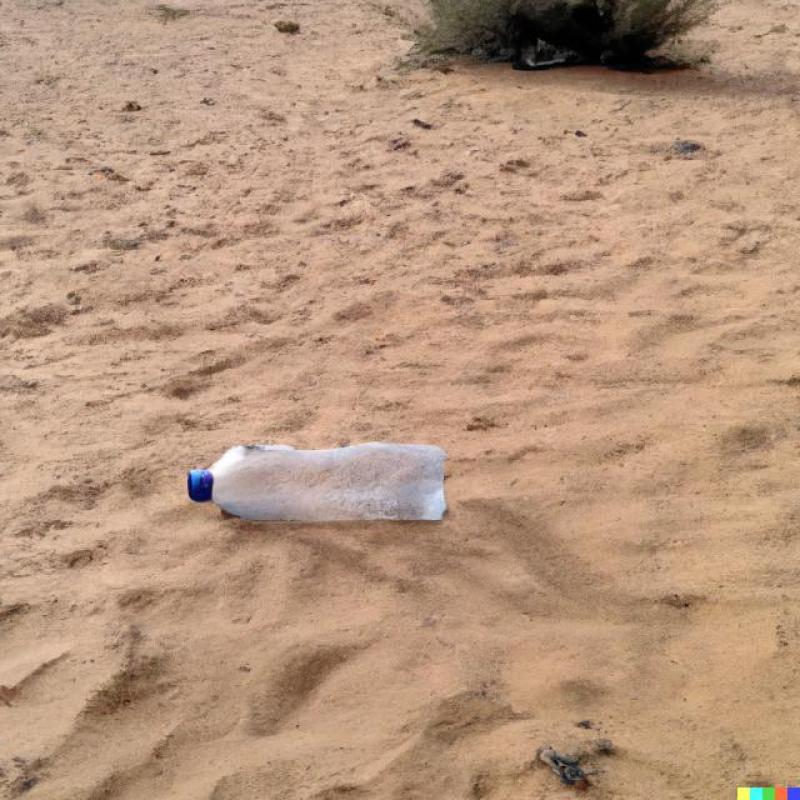botella: (187, 444, 449, 525)
